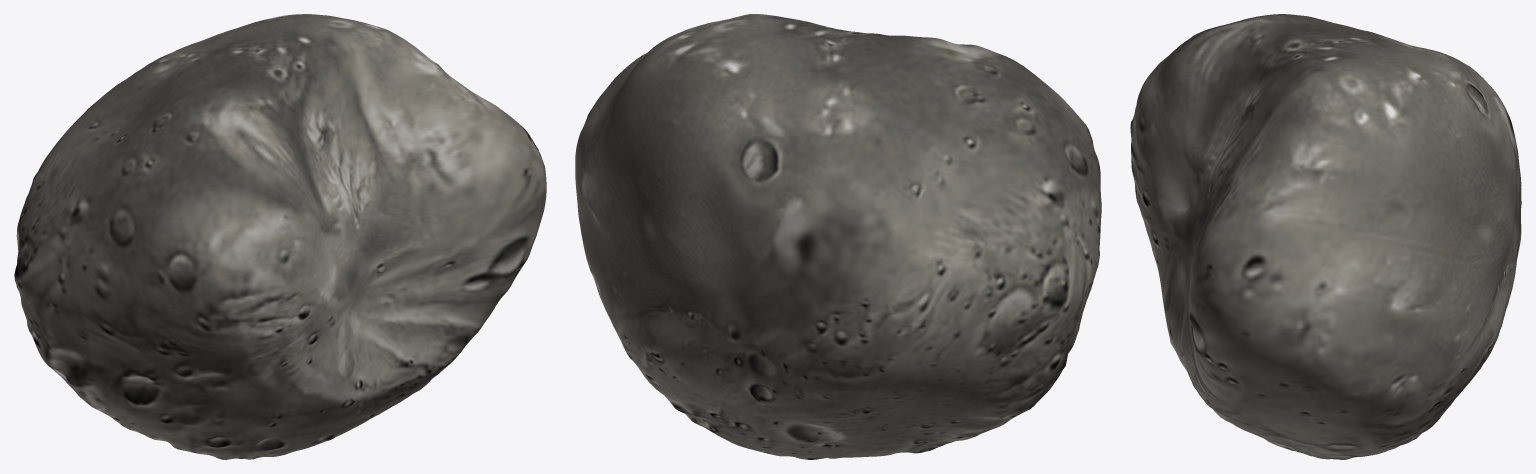
The model's file is deimos_compressed.glb.
3 views of the same model, side by side, from view 1: azimuth 30°, elevation 25°; view 2: azimuth 150°, elevation 25°; view 3: azimuth 270°, elevation 25° (orthographic). The views are drawn at different scales.
Visible parts, largest first — view 1: deimos; view 2: deimos; view 3: deimos.
Part boxes in pixels (x1,y1,x2,y2): deimos: (14, 14, 546, 459); deimos: (575, 14, 1101, 459); deimos: (1130, 14, 1521, 459).
Bounding box in the file's own units: 15.01 × 11.87 × 10.5.
1 material, 1 textured.
